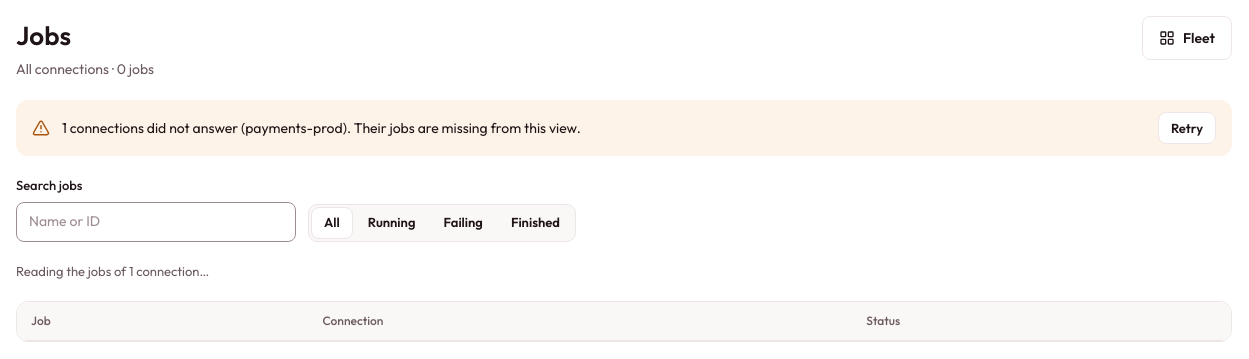
Test case: JOB-11 · jobs across connections (board X18) › audit of 77bfa9f: with a connection down or still reading, no counts and no "no match" (its jobs are missing)
Expected: the text "did not answer" is shown, [62,119,581,137]
Click the button "Failing" at (463, 222), box [430,206,496,238]
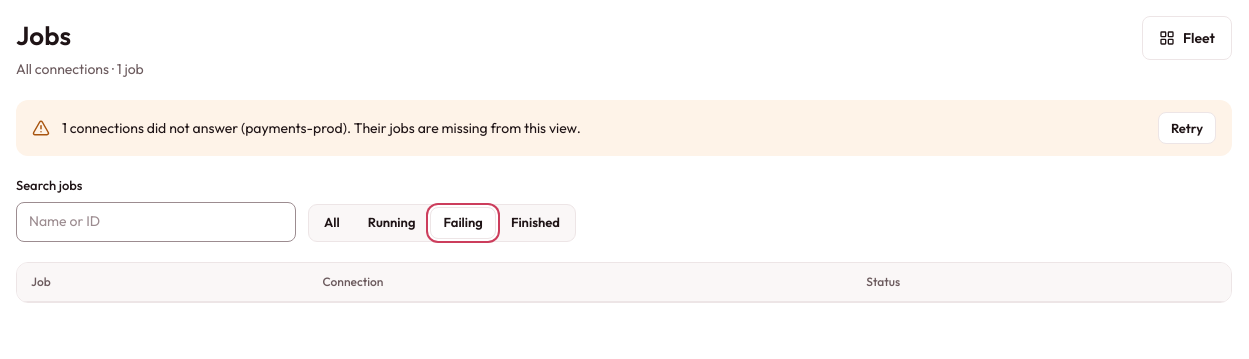
Expected: the text "All connections · 1 job" is shown, [16,59,144,80]
